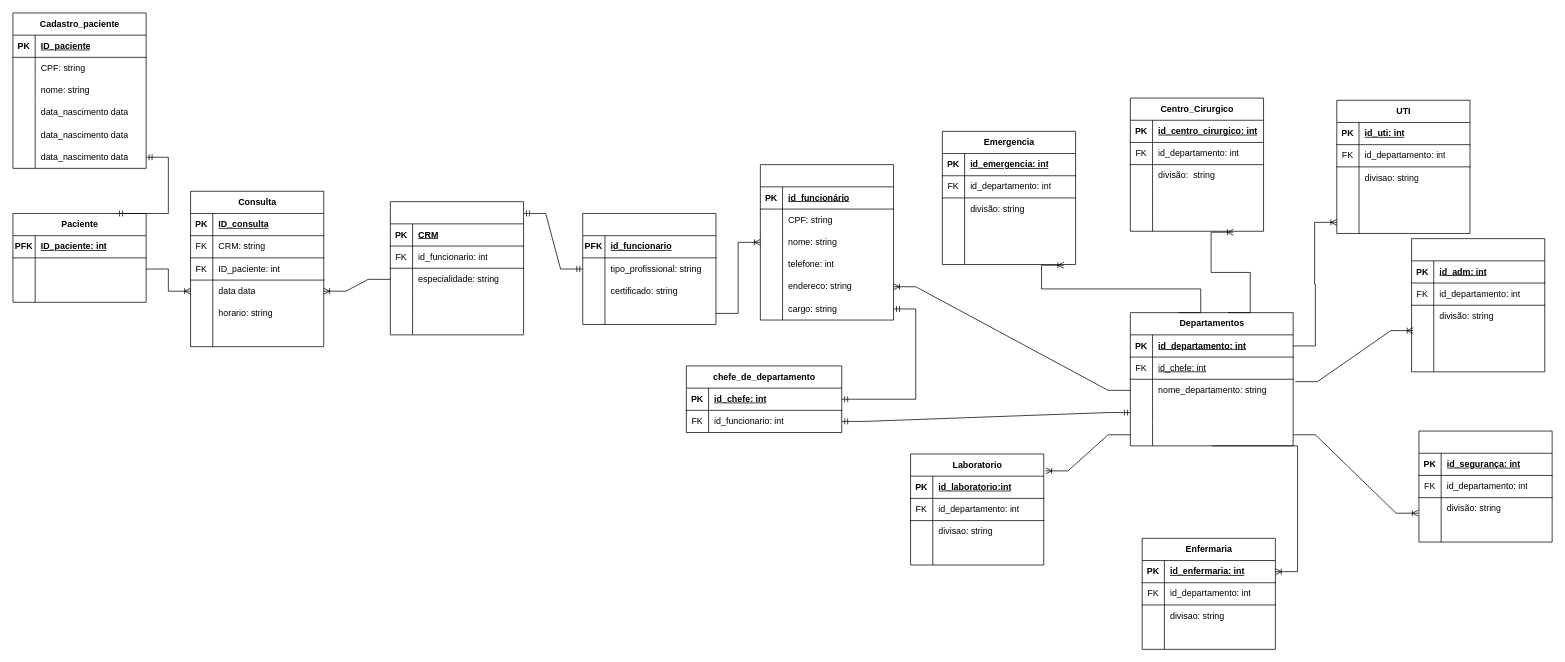
The diagram is 1565 pixels wide and 662 high, and some of its shapes have lost their labels. The shapes that lost their labels are listed below. From the top down, each one's box as (x1, y1, x2, y2) in pixels, then its label:
(760, 164, 894, 320): Funcionários
(390, 201, 524, 335): Médico
(582, 213, 716, 324): Profissionais da Saúde
(1411, 238, 1545, 372): Adminstrativo
(1418, 430, 1552, 542): Seguranca
